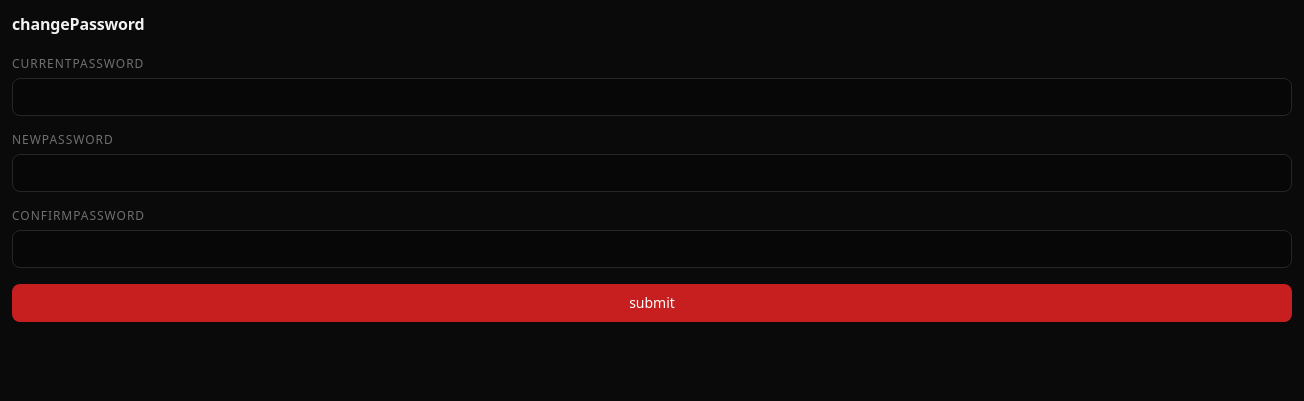
Scenario: ChangePasswordForm › should show mismatch error when passwords do not match
In the password field labelled "currentPassword": (652, 97) [12,78,1292,116], type "oldpass1"
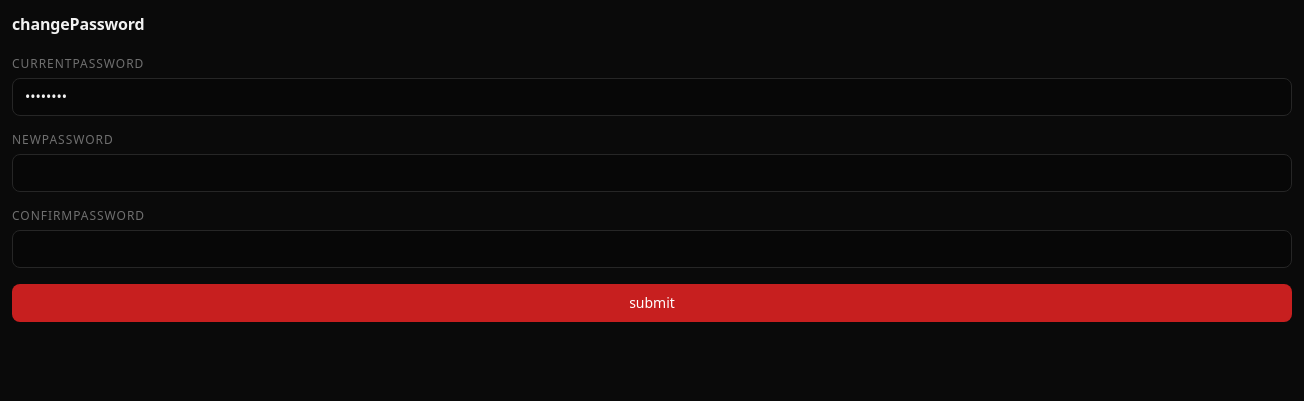
In the password field labelled "newPassword": (652, 173) [12,154,1292,192], type "newpass123"
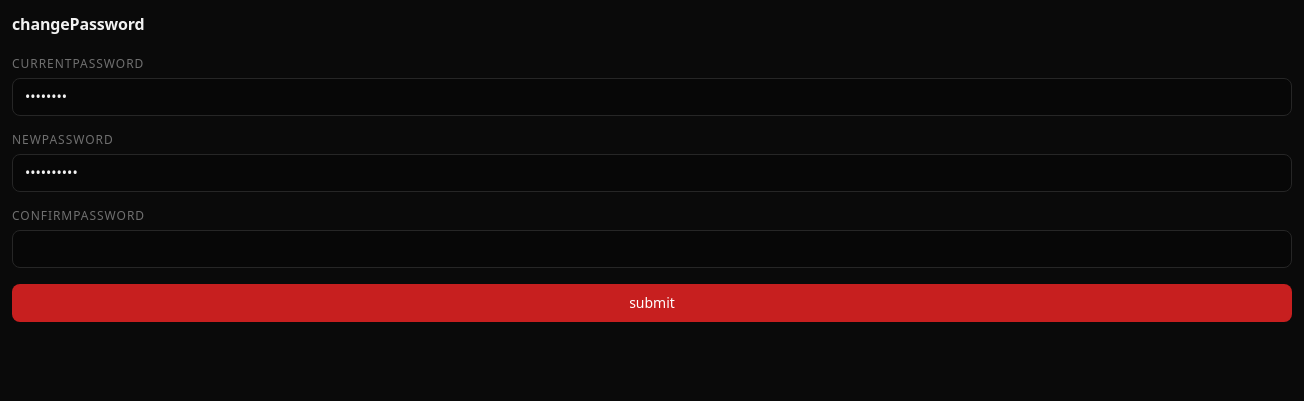
In the password field labelled "confirmPassword": (652, 249) [12,230,1292,268], type "different1"
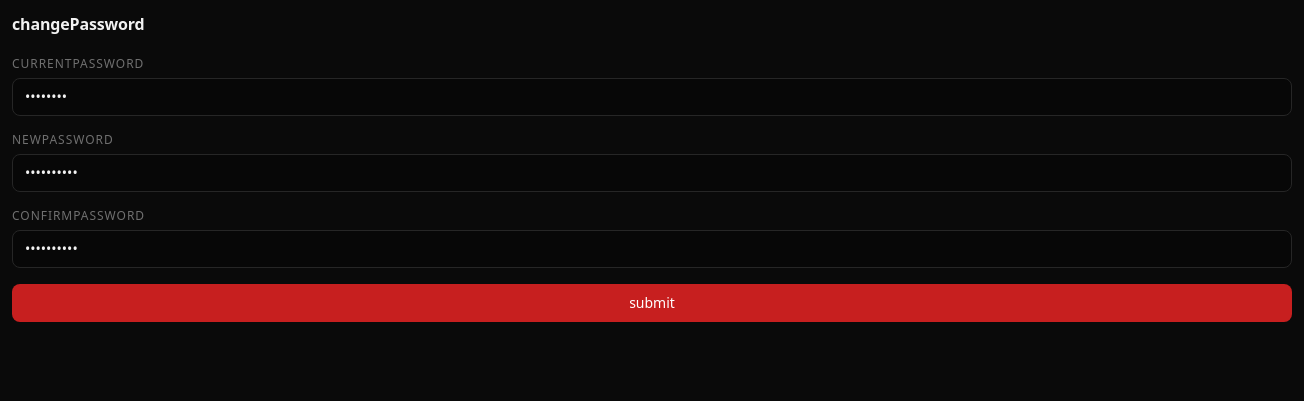
Click the button "submit": (652, 303) [12,284,1292,322]
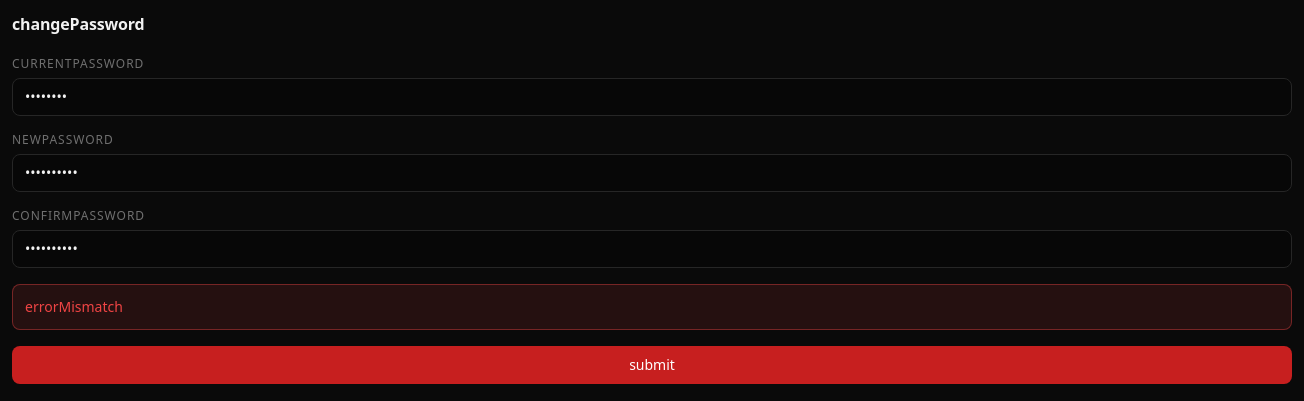
Result: the message reads "errorMismatch" at [25,297,123,316]
